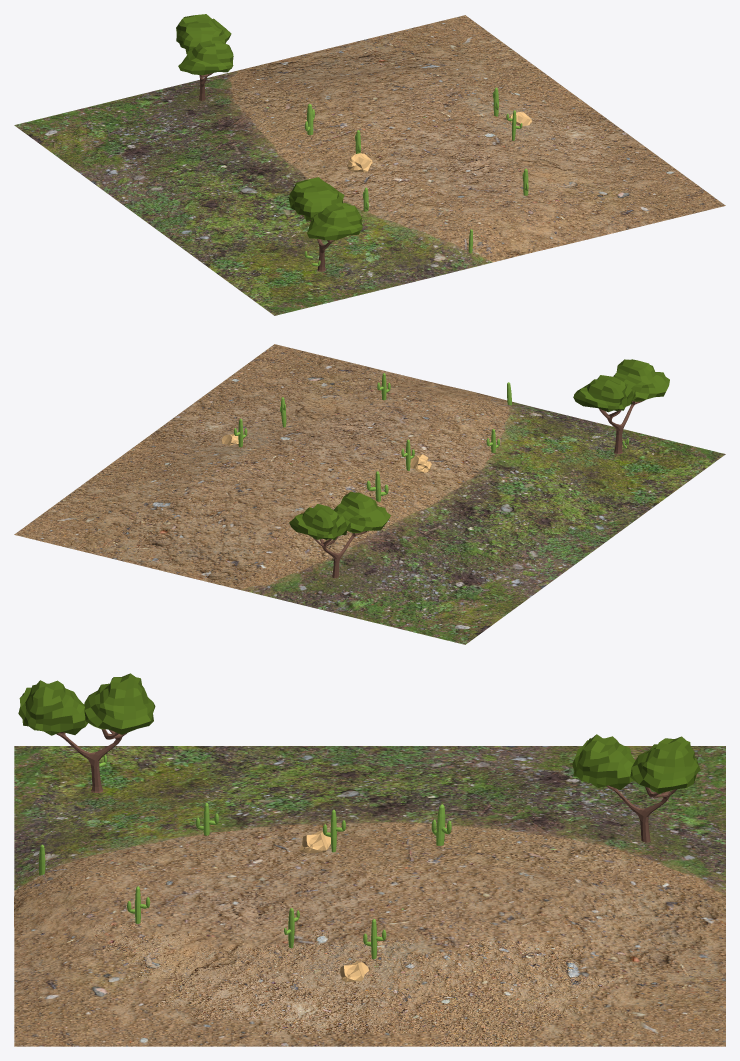
The model's file is FSFS.fbx.
The picture shows the model from 3 angles, top to bottom: view 1: azimuth 30°, elevation 25°; view 2: azimuth 150°, elevation 25°; view 3: azimuth 270°, elevation 25°; orthographic projection. The views are drawn at different scales.
Parts seen in each view (by area): view 1: Plane, CommonTree_1, CommonTree_1.001; view 2: Plane, CommonTree_1, CommonTree_1.001; view 3: Plane, CommonTree_1, CommonTree_1.001.
Boxes of the visible parts, x1,y1,x2,y2 form: Plane: (14,15,725,315); CommonTree_1: (289,177,362,271); CommonTree_1.001: (176,14,233,100); Plane: (14,344,725,644); CommonTree_1: (573,359,669,454); CommonTree_1.001: (289,492,390,578); Plane: (14,746,725,1046); CommonTree_1: (18,673,155,792); CommonTree_1.001: (572,734,700,842).
Bounding box in the file's own units: 500 × 92.5 × 500.
